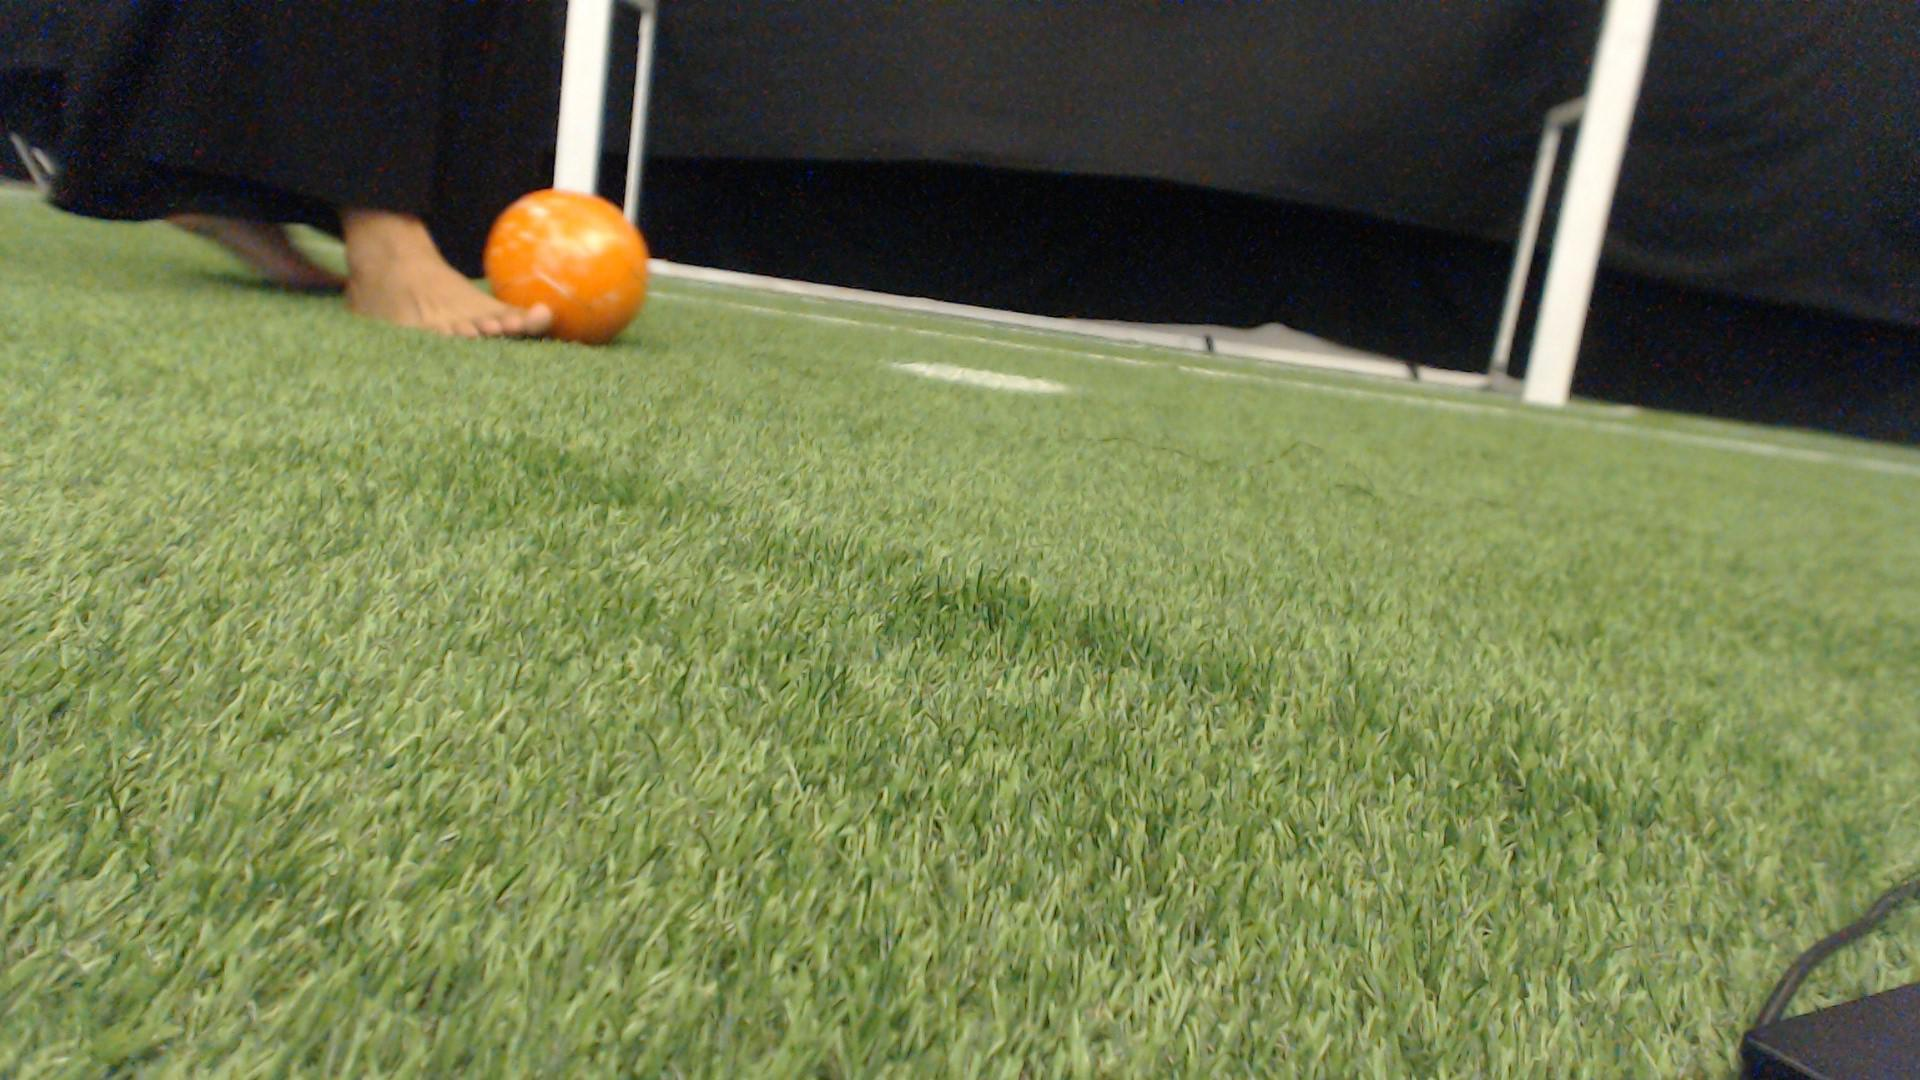bola: (481, 175, 657, 348)
